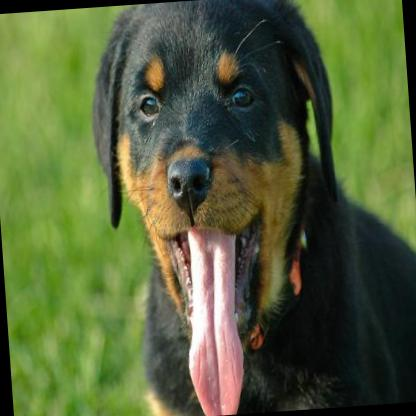Rottweiler: (83, 0, 416, 416)
